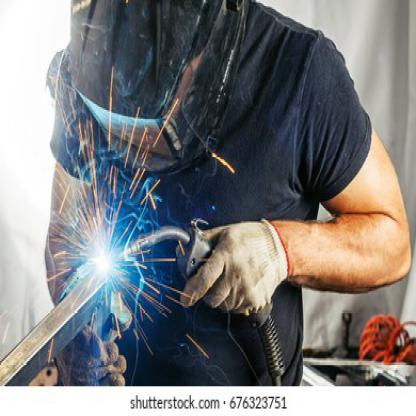with_gloves: (177, 217, 290, 315), (55, 324, 128, 386)
